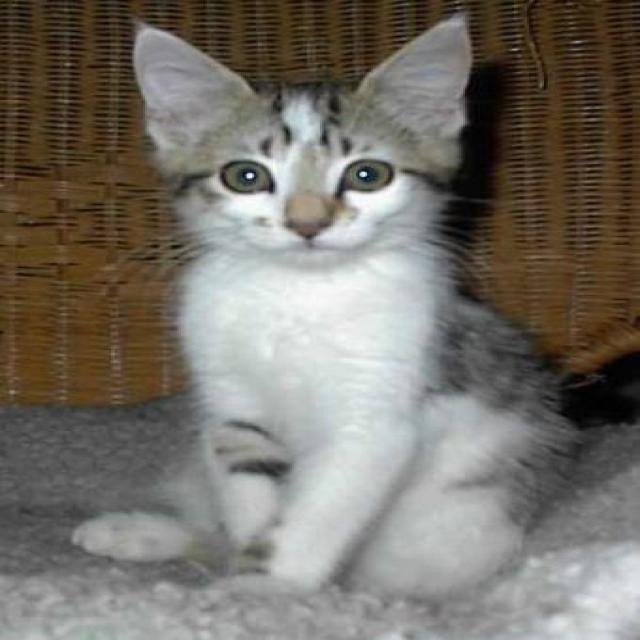cat: (68, 8, 585, 602)
